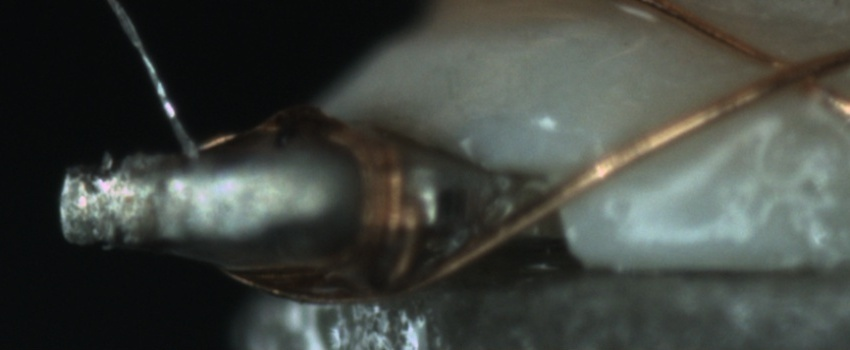CL: (745, 40, 846, 106)
TE: (188, 106, 415, 306)
